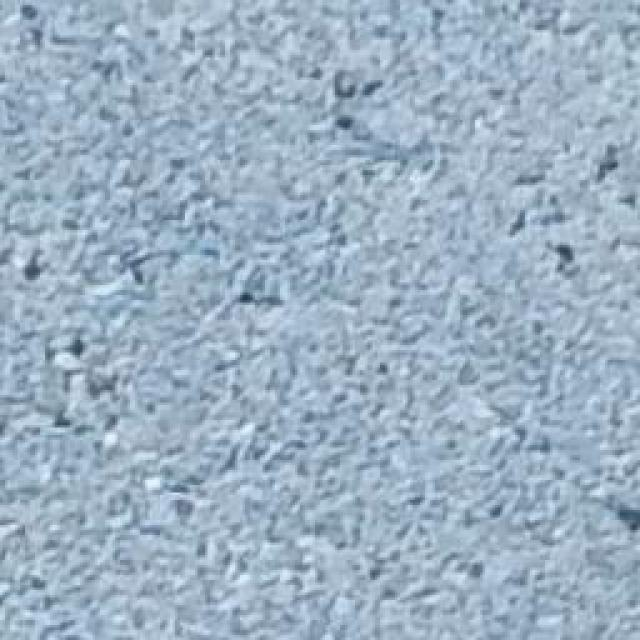concrete-crack: (4, 137, 591, 444)
